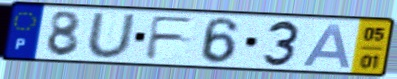3: (260, 19, 302, 68)
6: (199, 15, 243, 66)
8: (46, 9, 84, 58)
A: (300, 22, 354, 70)
F: (143, 14, 198, 61)
U: (85, 12, 138, 60)
